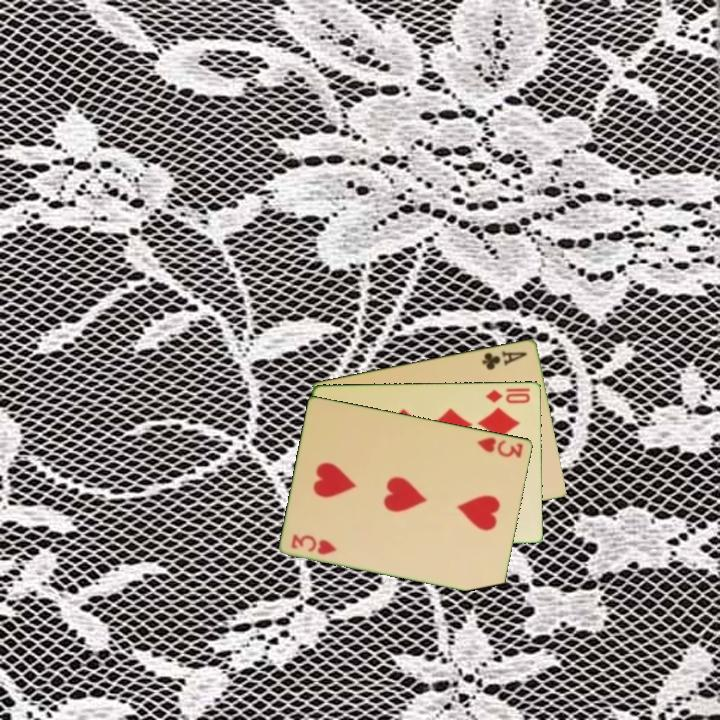10d: (483, 384, 533, 406)
3h: (474, 433, 526, 461), (288, 530, 340, 558)
Ac: (479, 347, 530, 372)
